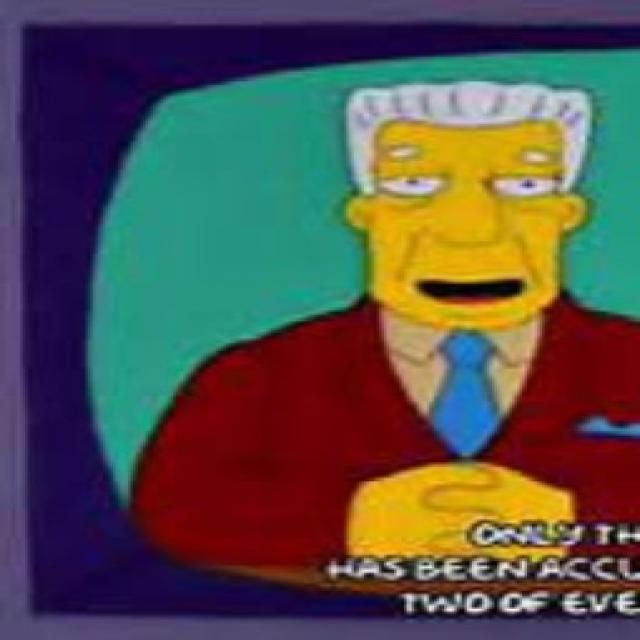Kent Brockman: (337, 77, 608, 334)
